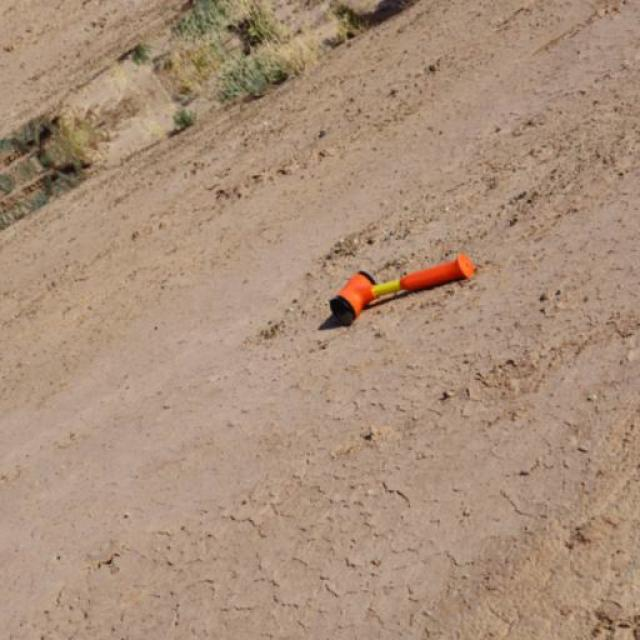mallet: (328, 252, 478, 326)
